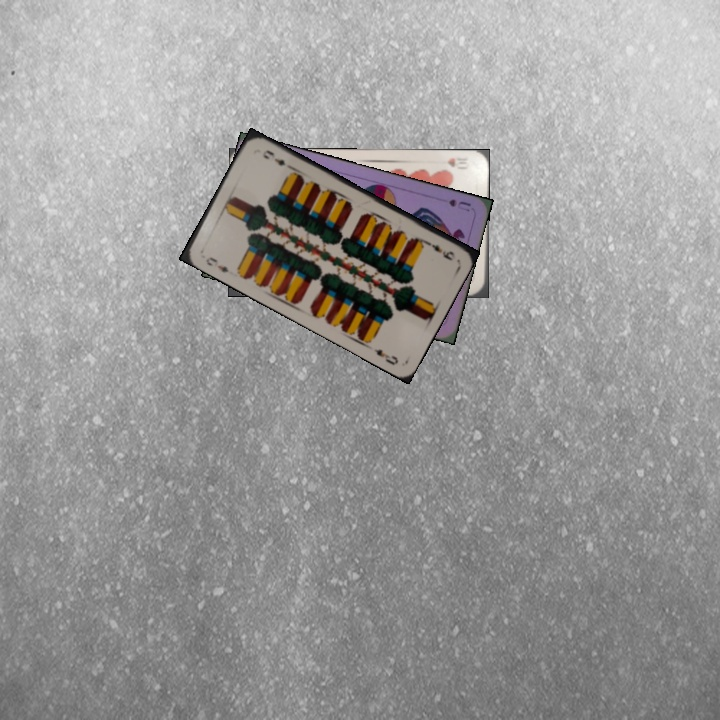E9: (420, 237, 458, 263), (202, 253, 231, 275)
H10: (443, 154, 470, 169)
SU: (445, 195, 474, 214)
